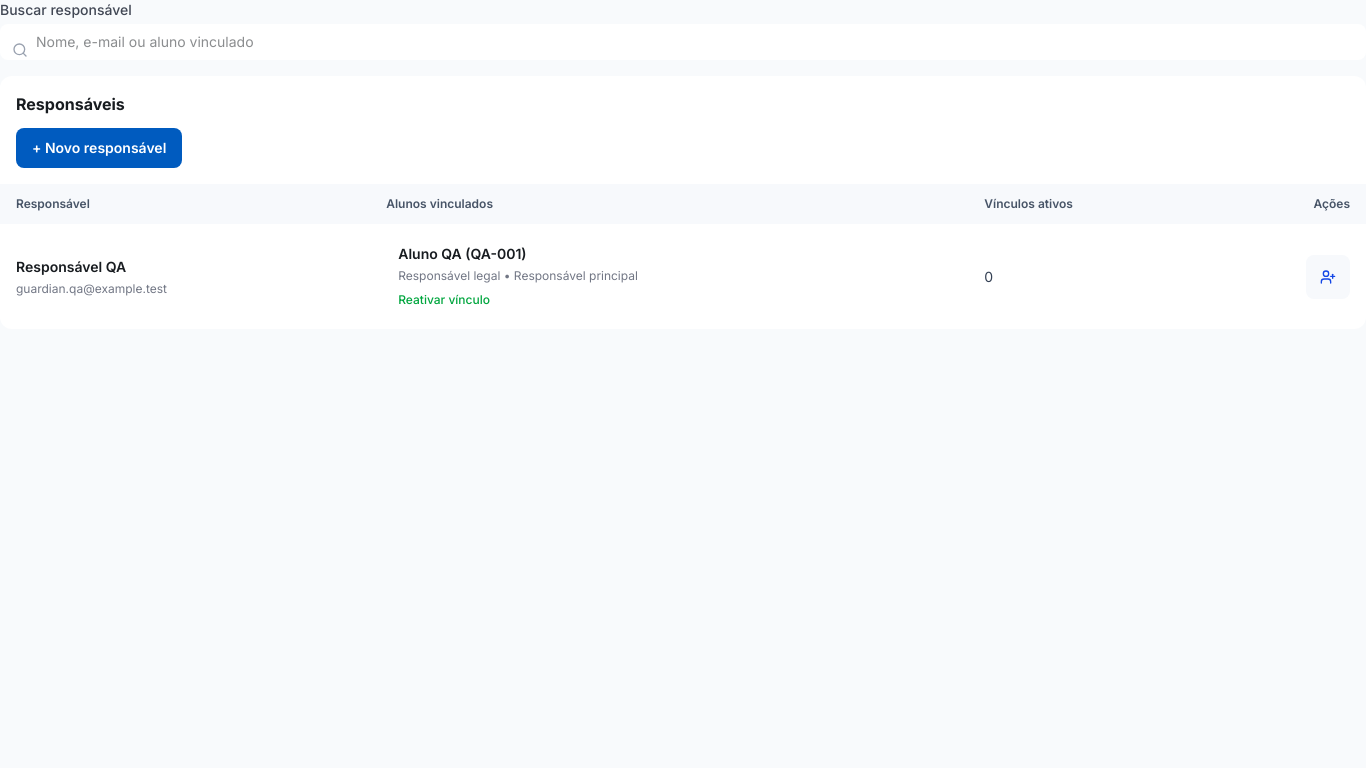
Test: GuardiansTab › confirma reativação de um vínculo inativo
Click the button "Reativar vínculo": (444, 300) [398,292,490,308]
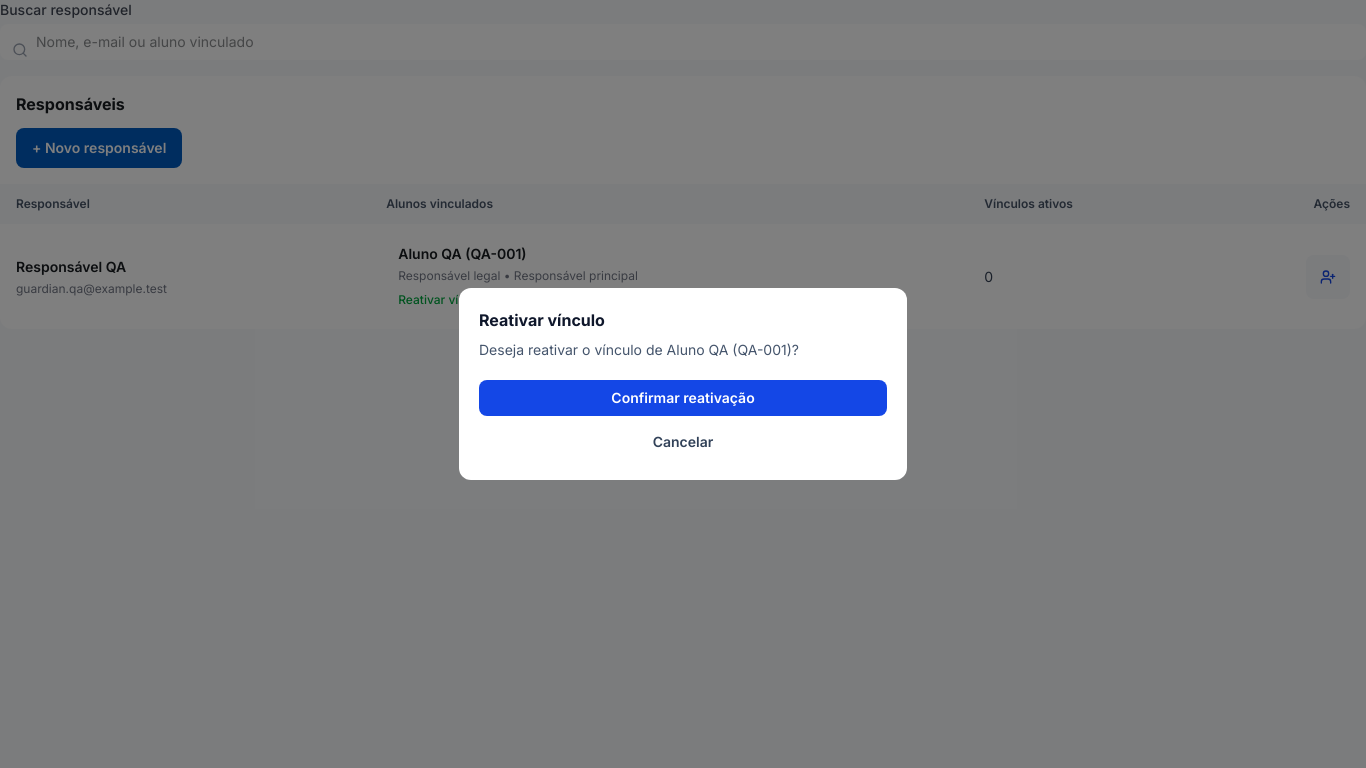
Click the button "Confirmar reativação": (683, 398) [479,380,887,416]
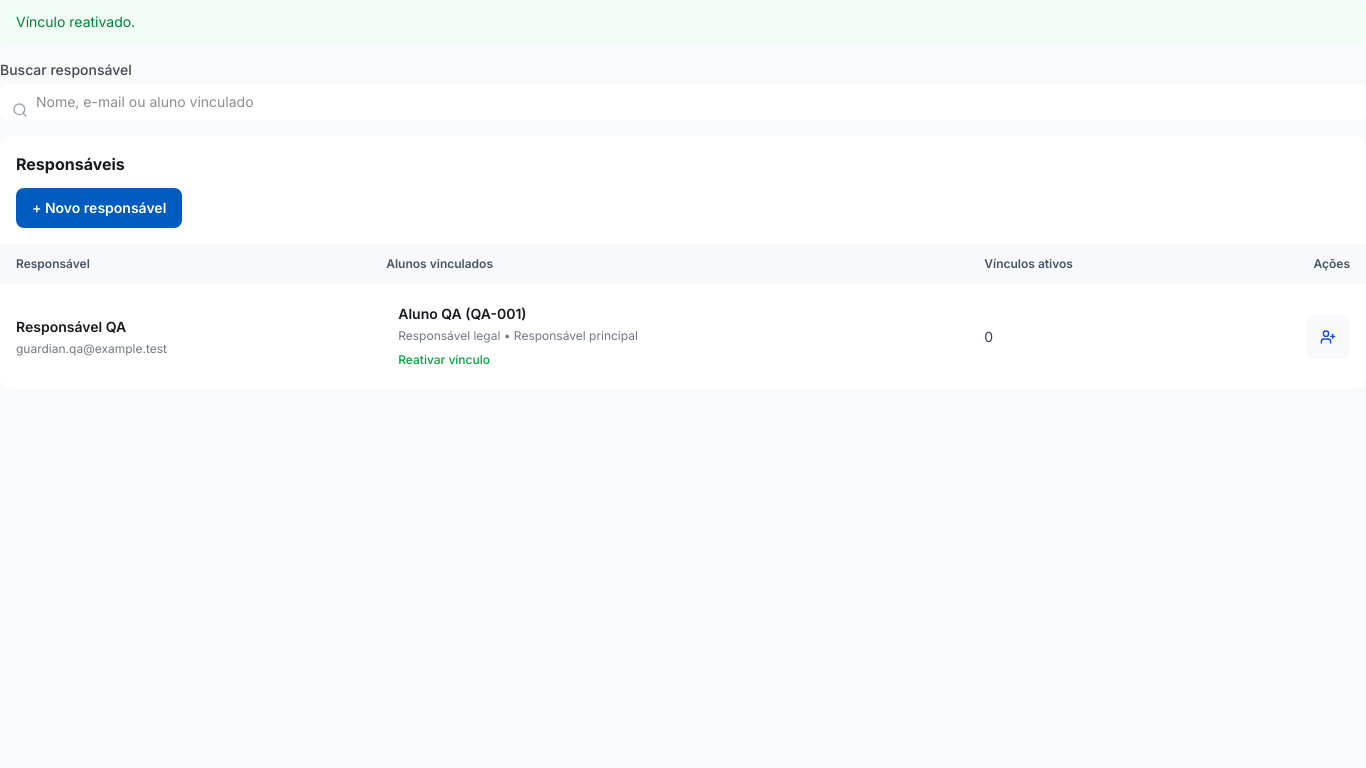
Now the message reads "Vínculo reativado.", box [16,13,135,30]
